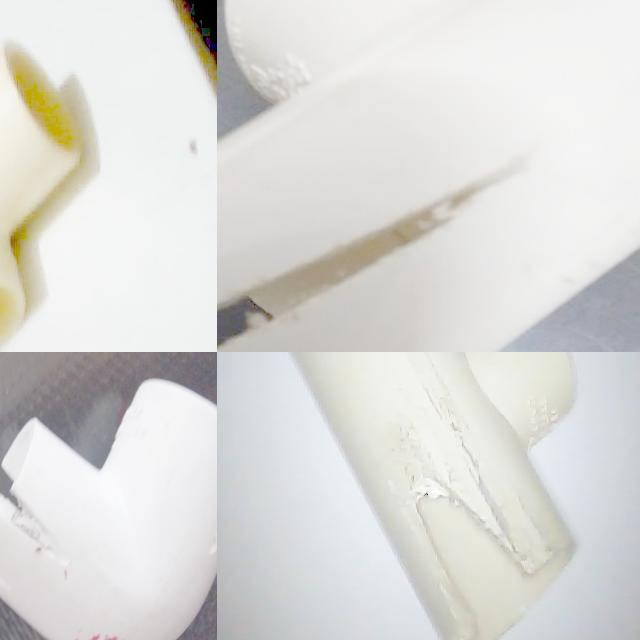Defective: (418, 498, 541, 632), (217, 255, 357, 352), (423, 135, 551, 225), (317, 208, 445, 282)
T Joint: (288, 352, 578, 640), (0, 40, 82, 348)
